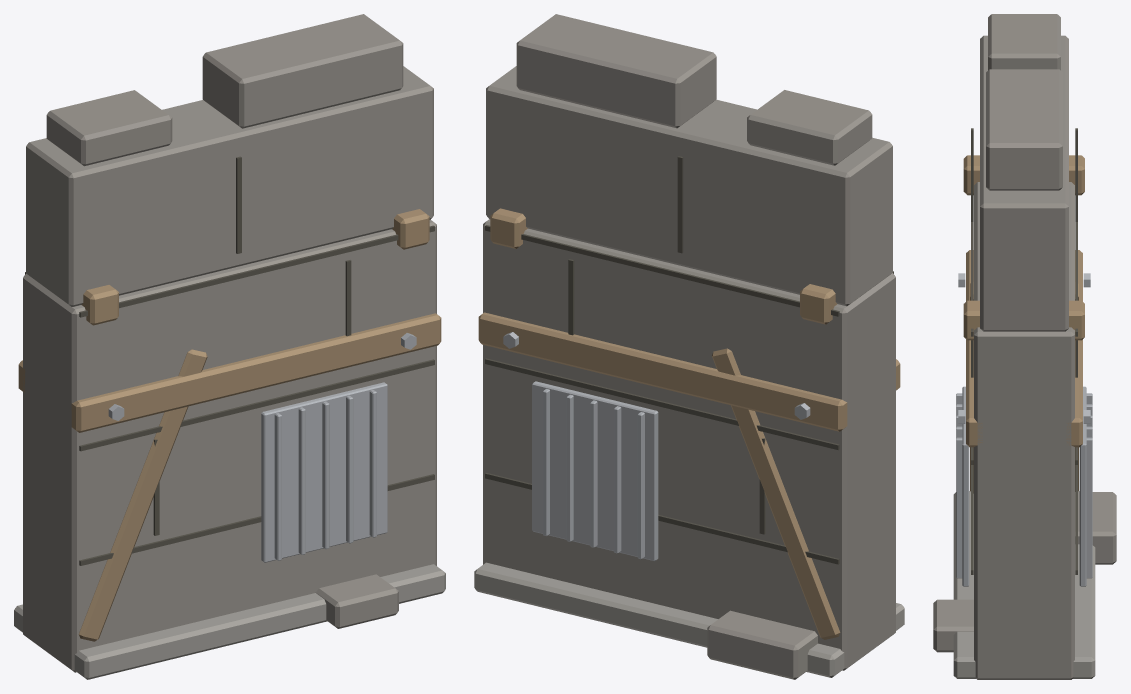
Rendered from wall_patch.glb.
3 views of the same model, side by side, from view 1: azimuth 30°, elevation 25°; view 2: azimuth 150°, elevation 25°; view 3: azimuth 270°, elevation 25° (orthographic). The views are drawn at different scales.
Visible parts, largest first — view 1: wall_patch; view 2: wall_patch; view 3: wall_patch.
Part boxes in pixels (x1,y1,x2,y2): wall_patch: (14,14,445,679); wall_patch: (474,14,904,679); wall_patch: (933,14,1116,679).
Size of the model in its own units: 2 by 2.86 by 0.905.
